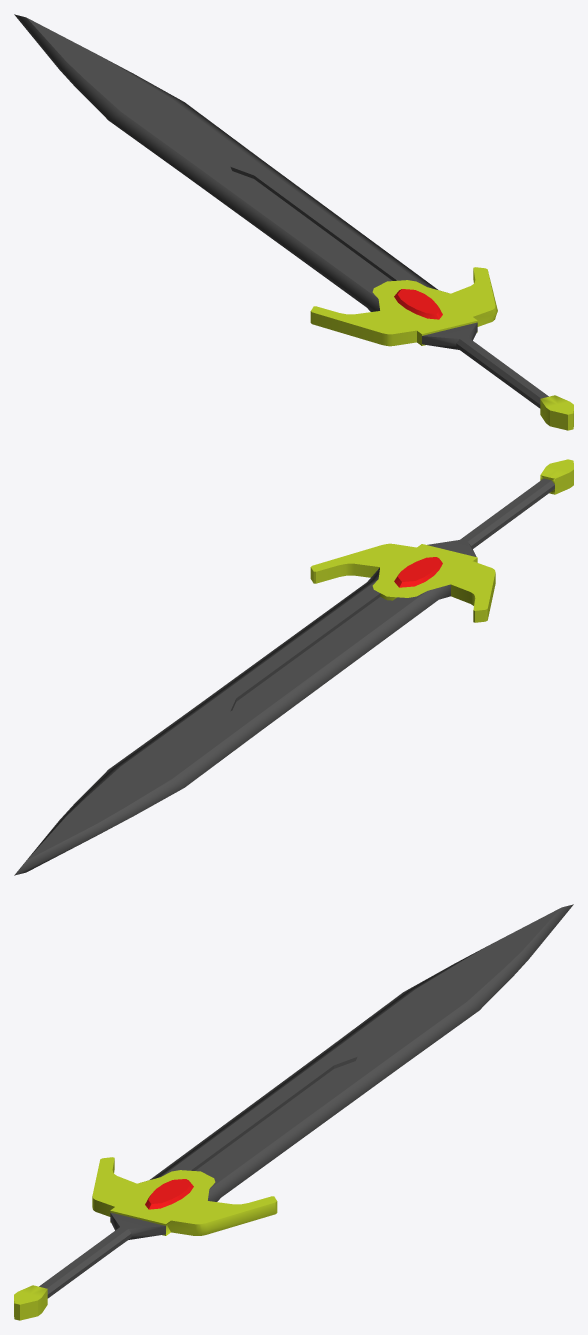
Rendered from Sword.FBX.
3 views of the same model, one above another, from view 1: azimuth 30°, elevation 25°; view 2: azimuth 150°, elevation 25°; view 3: azimuth 330°, elevation 25° (orthographic).
Visible parts, largest first — view 1: Sword; view 2: Sword; view 3: Sword.
Boxes of the visible parts, <box> form: Sword: <box>14,14,573,430</box>; Sword: <box>14,459,573,875</box>; Sword: <box>14,904,573,1320</box>.
Size of the model in its own units: 608 by 62.99 by 3340.
